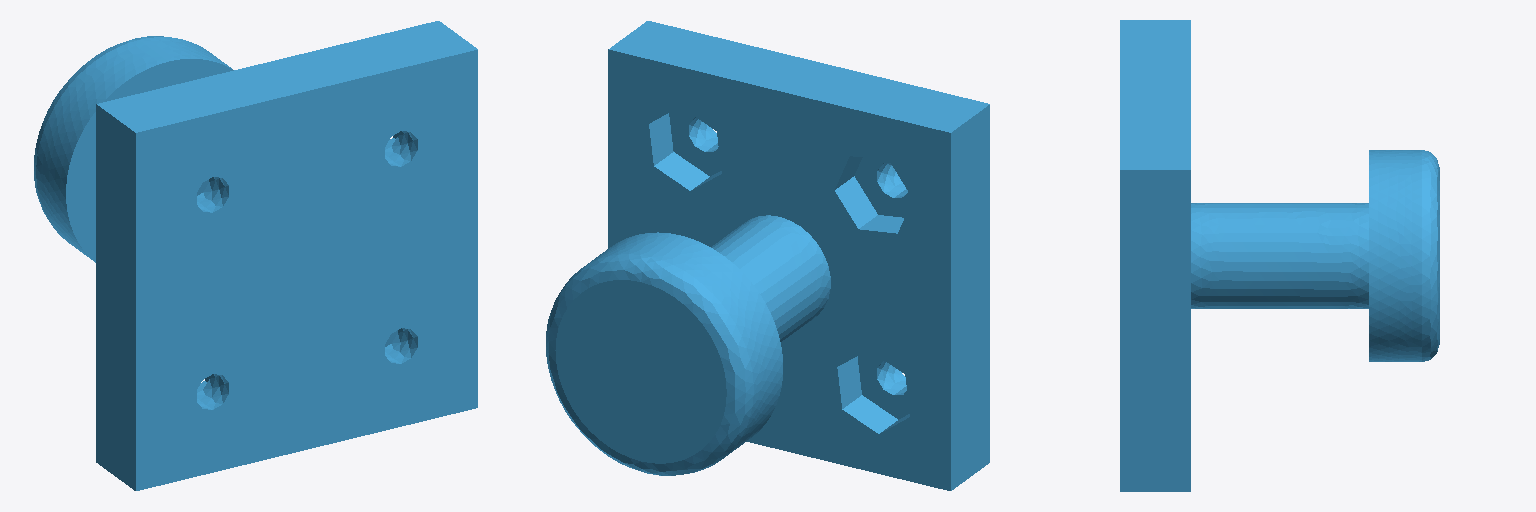
The robot description file, URDF, robot "Ucylinder_5":
<?xml version="1.0"?>

<robot name="Ucylinder_5">
	<link name="world">
        </link>

        <joint name="world_to_indenter" type="prismatic">
                <parent link="world"/>
                <child link="indenter"/>
                <origin rpy="0.0 0.0 0.0" xyz="0.0 0.0 0.0"/>
                <axis xyz="0 1 0"/>
                <dynamics damping="0.0" friction="0.0"/>
                <limit lower="0.0" upper="0.1" velocity="1e9" effort="1e9"/>
        </joint>

	<link name="indenter">
		<visual>
			<origin rpy="0.0 0.0 0.0" xyz="0.0 0.0 0.0"/>
			<geometry>
				<mesh filename="../meshes/Ucylinder_5_0.2.stl" scale="0.001 0.001 0.001"/>
			</geometry>
		</visual>
		<collision>
			<origin rpy="0.0 0.0 0.0" xyz="0.0 0.0 0.0"/>
			<geometry>
				<mesh filename="../meshes/Ucylinder_5_0.2.stl" scale="0.001 0.001 0.001"/>
			</geometry>
		</collision>
		<!-- <inertial>
			<origin rpy="0.0 0.0 0.0" xyz="0.0 -14.0636e-3 0.0"/>
			<mass value="0.00075752"/>
			<inertia ixx="2.03201e-8" iyy="1.24370e-8" izz="1.90589e-8" ixy="0.0" ixz="-1.96737e-15" iyz="0.0"/>
		</inertial> -->
	</link>
</robot>

--- What the picture shows (computed from the rendered views, not written in the file) ---
3 views of the same robot in one strip: view 1: azimuth 30°, elevation 25°; view 2: azimuth 150°, elevation 25°; view 3: azimuth 270°, elevation 25° (orthographic).
Model Ucylinder_5 with 2 links and 1 joints (1 prismatic), rooted at world, posed every joint at zero.
Links seen in each view (by area): view 1: indenter; view 2: indenter; view 3: indenter.
Link boxes in pixels (x1,y1,x2,y2): indenter: (34,21,477,490); indenter: (546,21,989,490); indenter: (1120,20,1439,491).
Size in the robot's own frame: 0.02 by 0.018 by 0.02 metres.
Meshes: 1 distinct files referenced, 1 mesh visuals loaded (1 ASCII STL).
